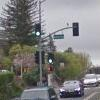Tree: (6, 0, 30, 50)
